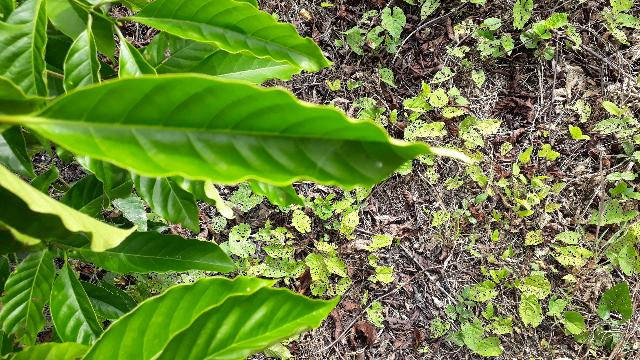healthy: (32, 76, 475, 188)
